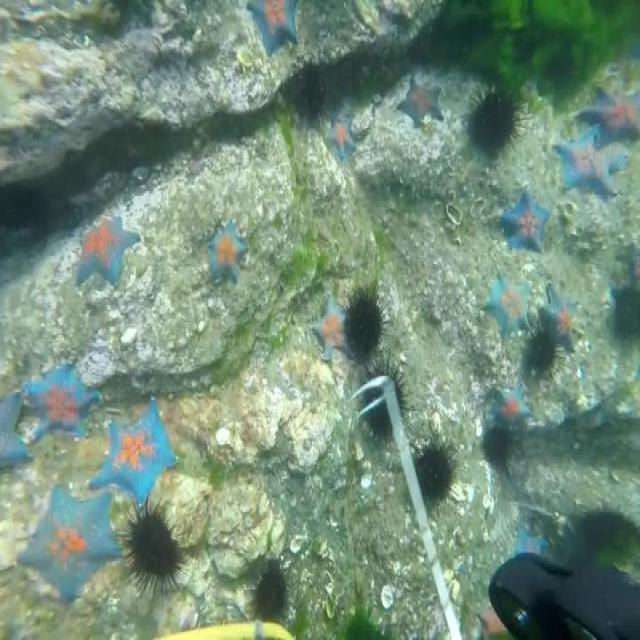echinus: (122, 501, 188, 602), (359, 352, 406, 450), (469, 87, 519, 160), (411, 432, 457, 511), (343, 281, 385, 367), (521, 314, 562, 384), (248, 563, 286, 635), (610, 268, 640, 339), (482, 428, 506, 468)
scallop: (446, 202, 463, 226), (469, 196, 486, 216), (323, 596, 337, 616), (381, 585, 392, 607), (362, 465, 374, 485), (216, 428, 228, 444), (484, 493, 492, 514), (290, 539, 300, 555)
starfish: (17, 482, 119, 599), (90, 397, 177, 507), (28, 362, 92, 444), (71, 212, 140, 286), (550, 132, 625, 194), (584, 76, 640, 139), (502, 186, 548, 253), (243, 0, 296, 58), (311, 296, 352, 366), (0, 389, 34, 471), (486, 276, 532, 332), (206, 228, 248, 284), (394, 78, 444, 124), (544, 284, 578, 350), (496, 378, 527, 450), (328, 111, 353, 153)
